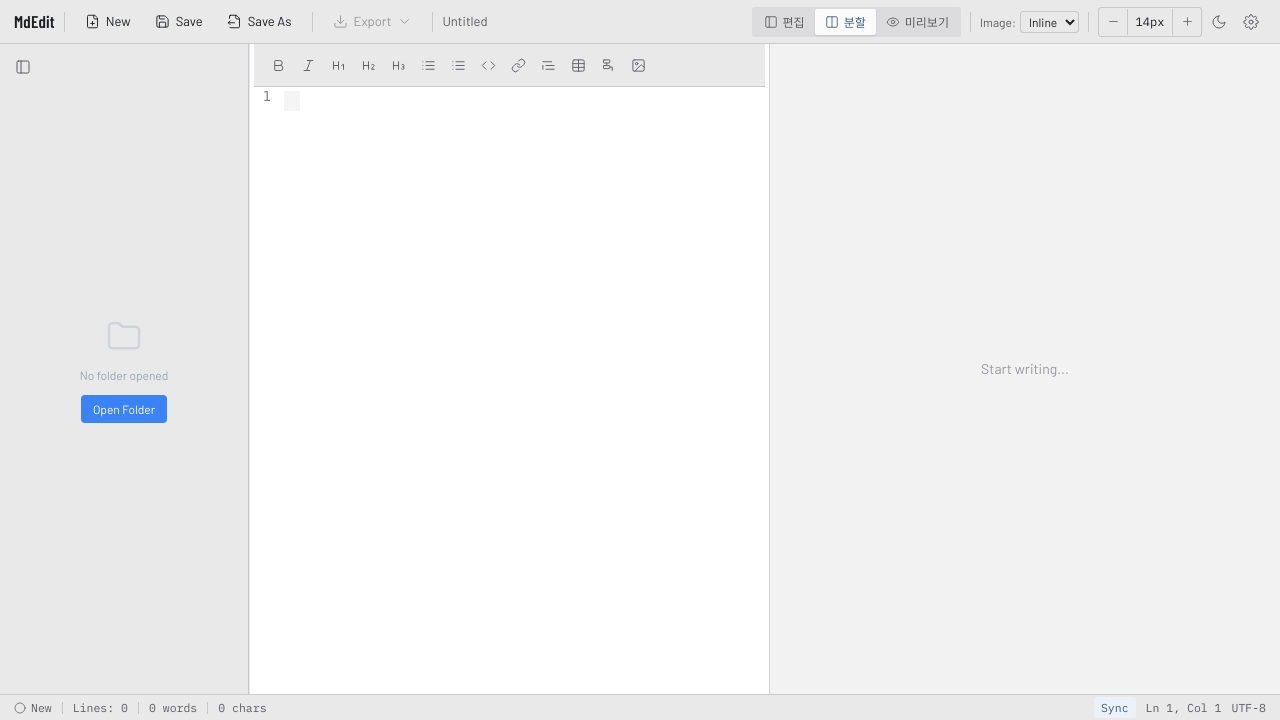
AppLayout integration: settings modal + relay wiring › opens the settings modal when the gear is clicked and does not crash with the relay wired
Click the button named "Settings". click: point(1251, 22)
box: x1=1236 y1=6 x2=1266 y2=36
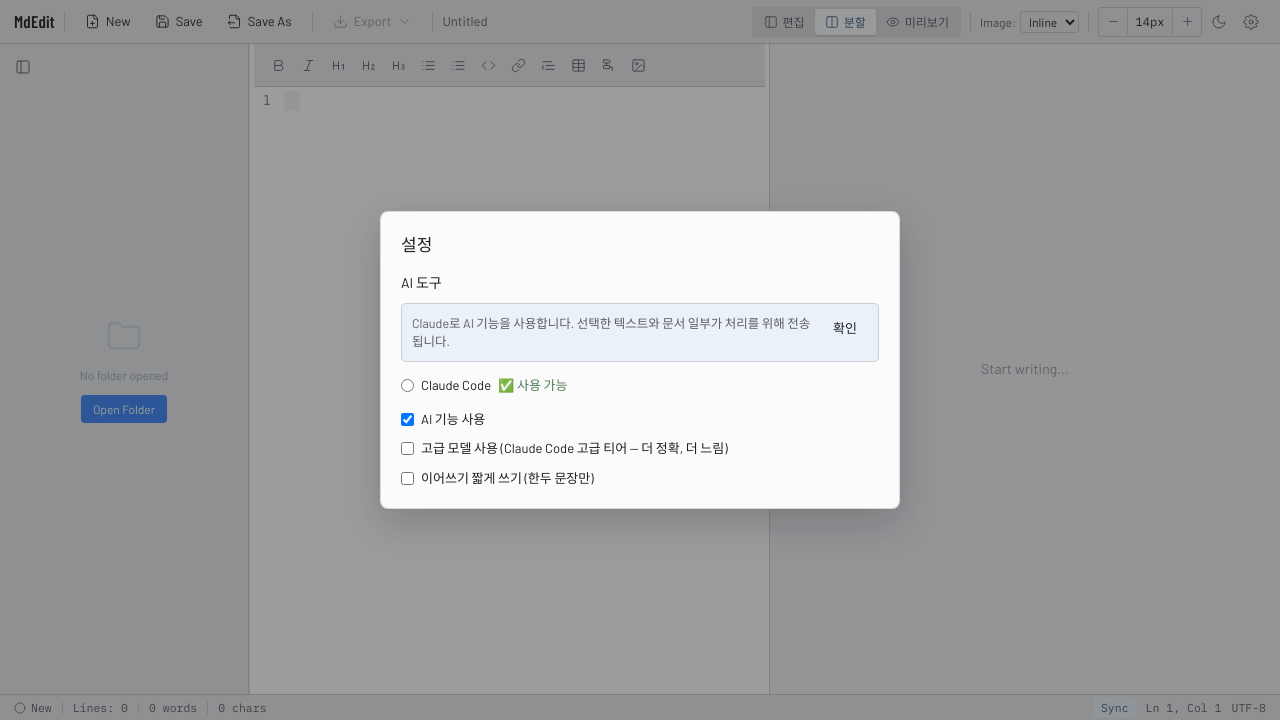
Now the element with test id "settings-backdrop" is shown
